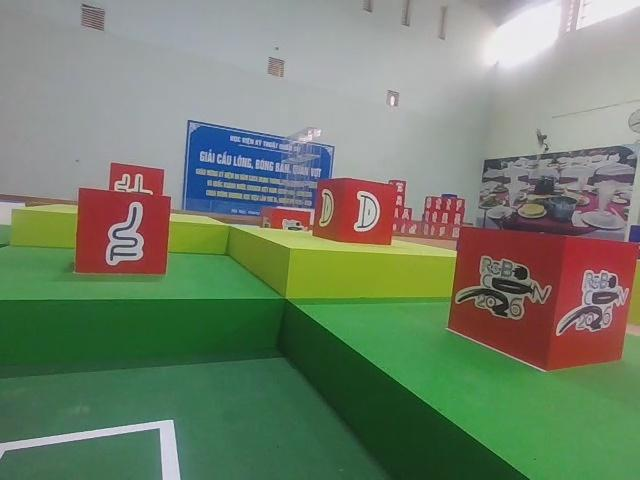R1: (443, 221, 640, 375)
R2 Fake: (71, 184, 174, 278)
R2 Real: (311, 176, 400, 249)
